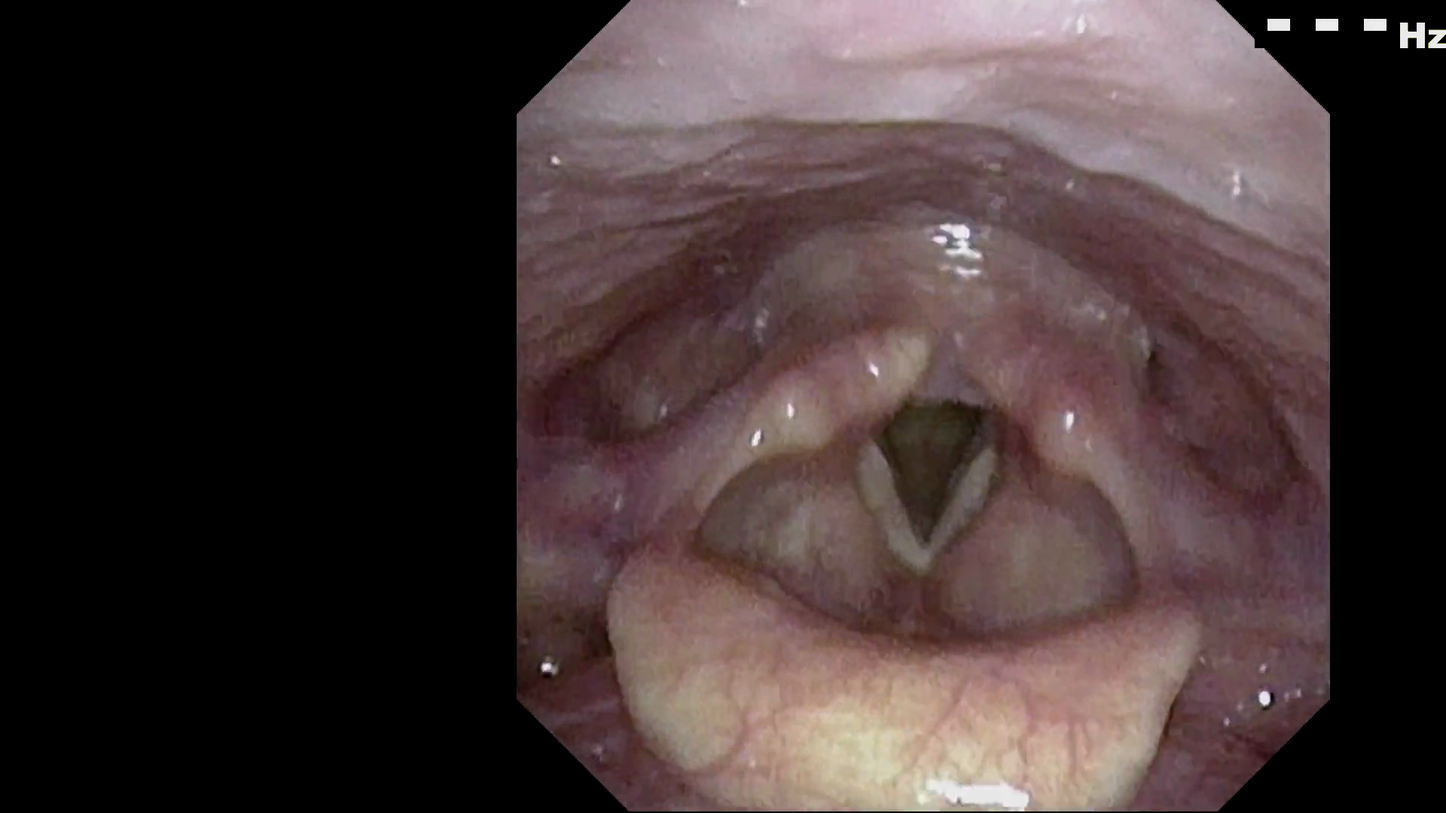epiglottis: (611, 503, 1219, 777)
trachea: (855, 339, 1034, 564)
